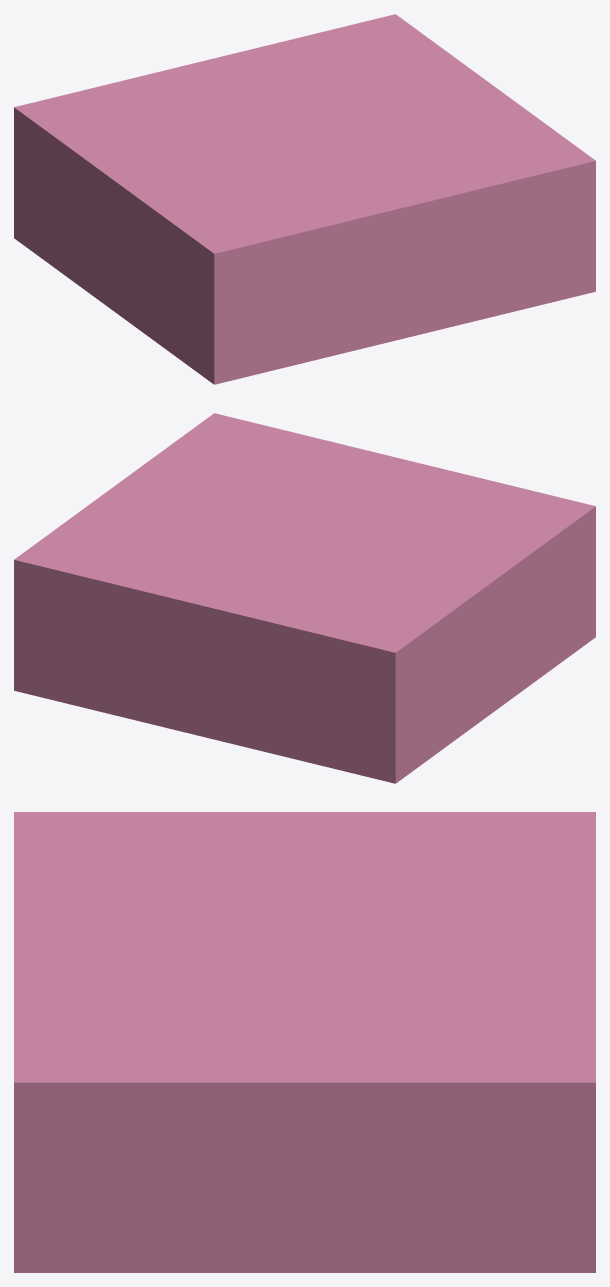
Rendered from utah_rock_big_a.dae.
3 renders of one model, top to bottom at view 1: azimuth 30°, elevation 25°; view 2: azimuth 150°, elevation 25°; view 3: azimuth 270°, elevation 25°, orthographic. The views are drawn at different scales.
Parts seen in each view (by area): view 1: Untitled; view 2: Untitled; view 3: Untitled.
Part boxes in pixels (x1,y1,x2,y2): Untitled: (14,14,595,384); Untitled: (14,413,595,783); Untitled: (14,812,595,1272).
Bounding box in the file's own units: 2.32 × 2.11 × 0.7686.
